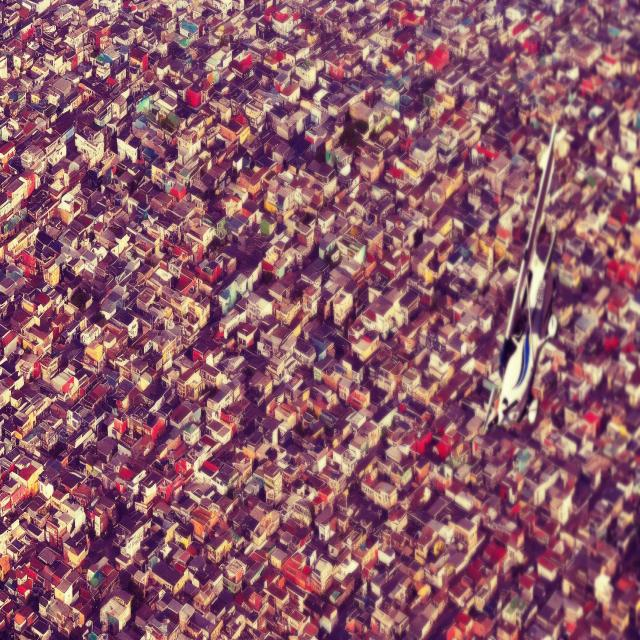airplane: (480, 121, 560, 434)
